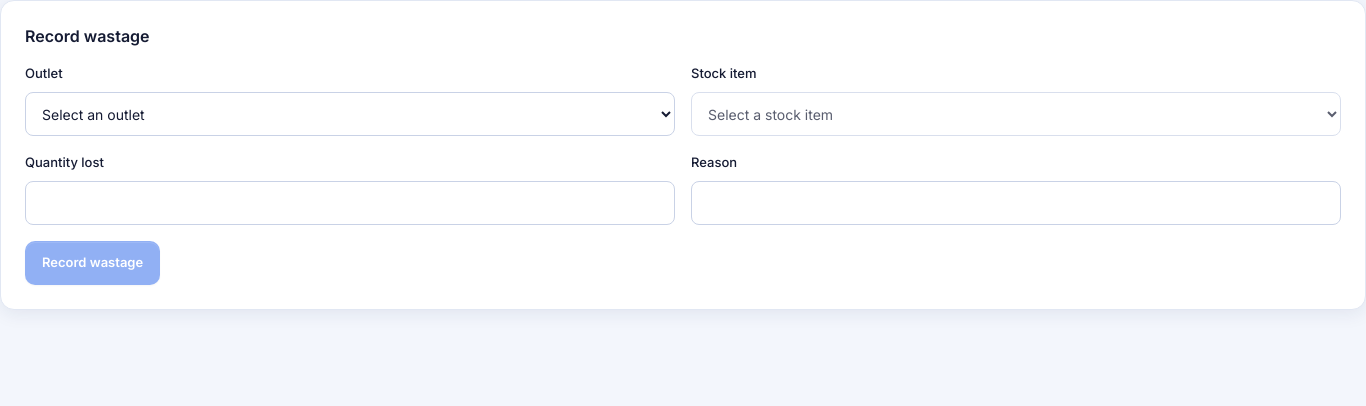
Test: <StockWastageTab> › a blank reason is rejected client-side before any request is made
Select "Main Bar" in the dropdown labelled "Outlet": [350, 114] box [25,92,675,136]
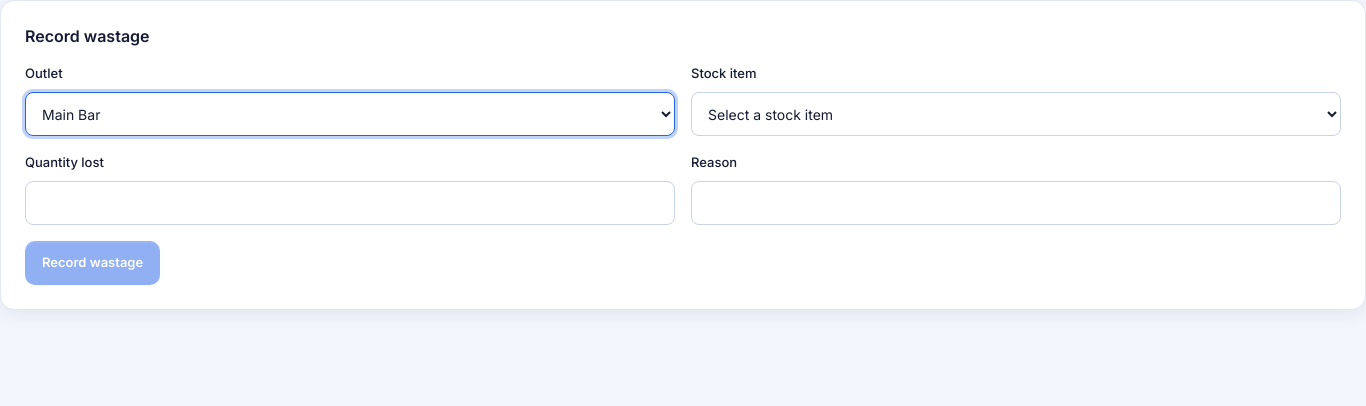
Select "Vodka (ml)" in the dropdown labelled "Stock item": [1016, 114] box [691,92,1341,136]
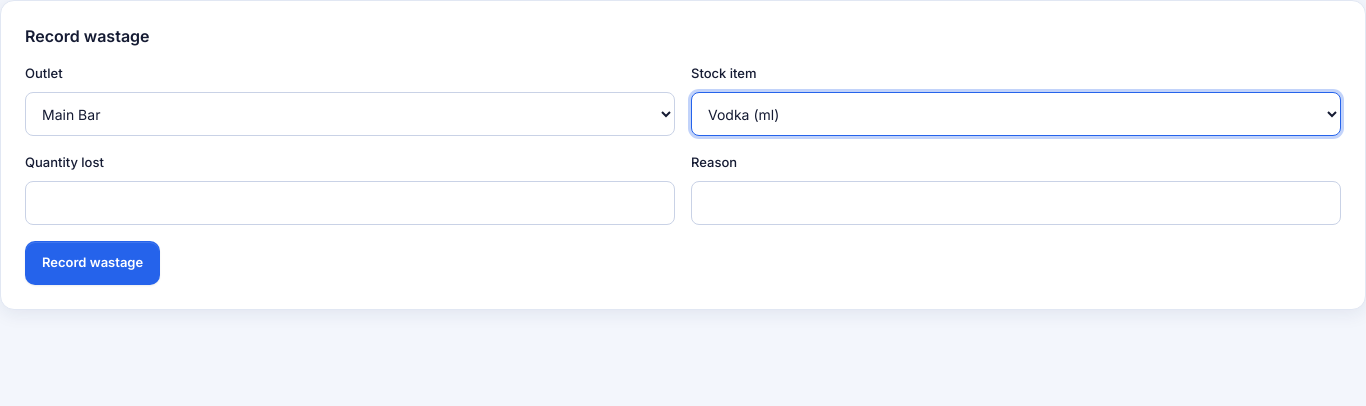
In the number field labelled "Quantity lost": [350, 203] box [25,181,675,225], type "2.5"
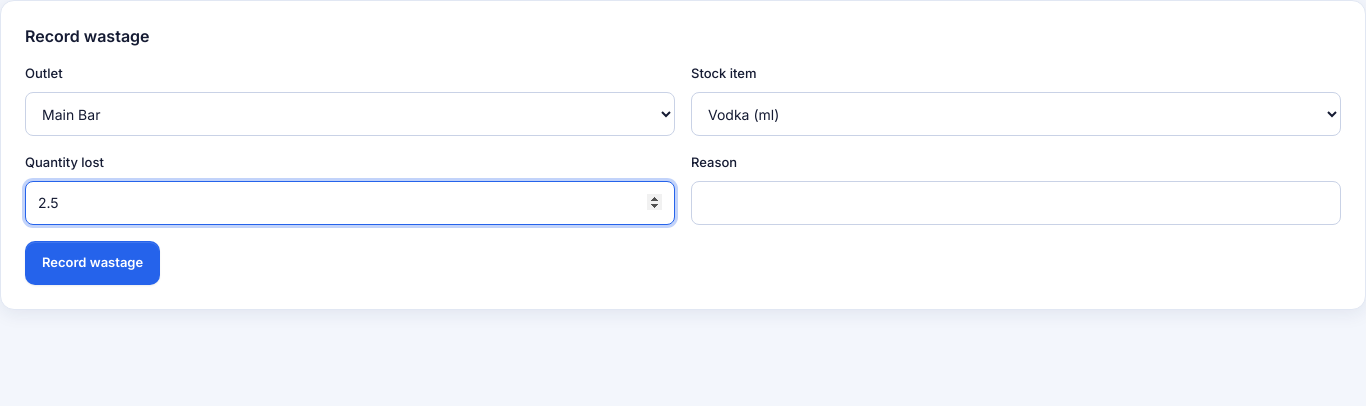
Click the button "Record wastage": [93, 263] box [25,241,160,285]
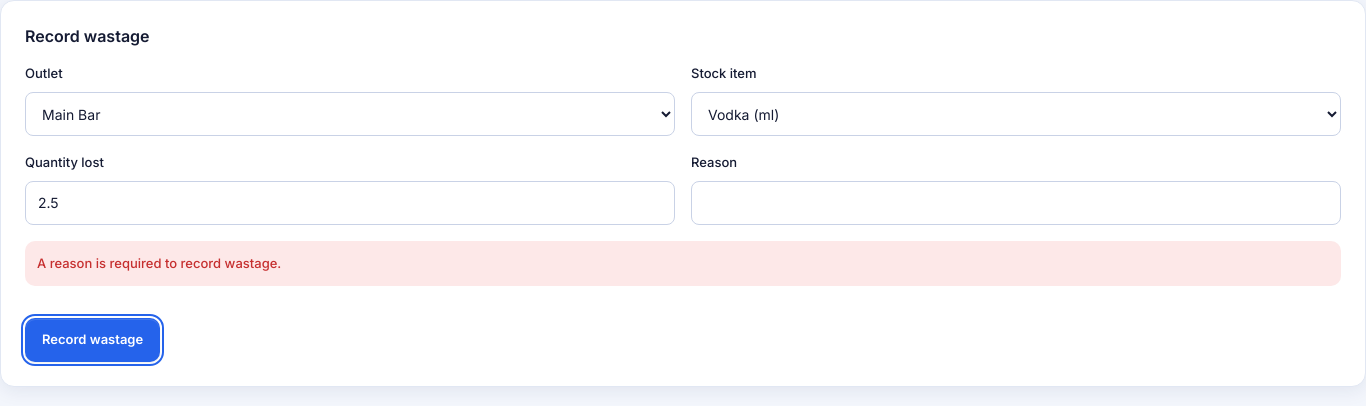
Result: the text "A reason is required to record wastage." is shown at [25,241,1341,286]
